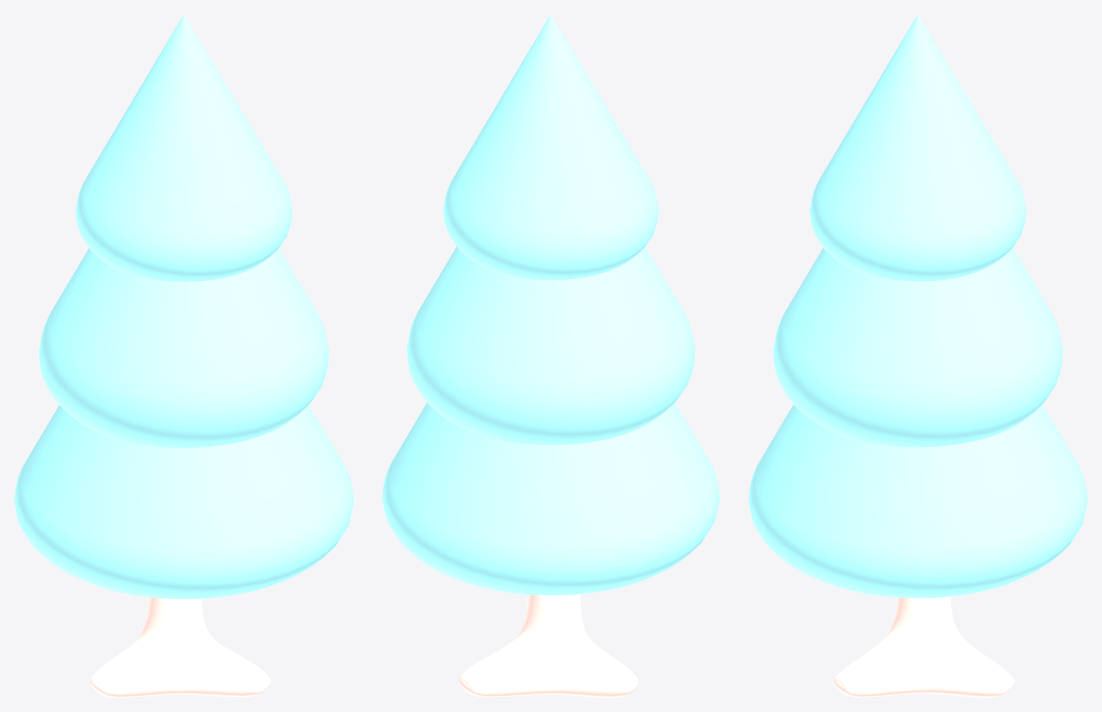
File: pine-tree.gltf
3 renders of one model, left to right at view 1: azimuth 30°, elevation 25°; view 2: azimuth 150°, elevation 25°; view 3: azimuth 270°, elevation 25°, orthographic.
Visible parts, largest first — view 1: Cone, Cone.1, Cone.2, Cylinder; view 2: Cone, Cone.1, Cone.2, Cylinder; view 3: Cone, Cone.1, Cone.2, Cylinder.
Part boxes in pixels (left/top/right/bottom): Cone: left=14, top=405, right=353, bottom=599; Cone.1: left=39, top=248, right=328, bottom=447; Cone.2: left=75, top=14, right=292, bottom=281; Cylinder: left=90, top=597, right=270, bottom=697; Cone: left=382, top=403, right=719, bottom=595; Cone.1: left=407, top=246, right=694, bottom=445; Cone.2: left=443, top=14, right=658, bottom=280; Cylinder: left=459, top=594, right=638, bottom=697; Cone: left=748, top=405, right=1087, bottom=598; Cone.1: left=773, top=247, right=1062, bottom=447; Cone.2: left=810, top=14, right=1025, bottom=281; Cylinder: left=834, top=596, right=1014, bottom=697.
Size of the model in its own units: 0.479 by 1.04 by 0.479.
